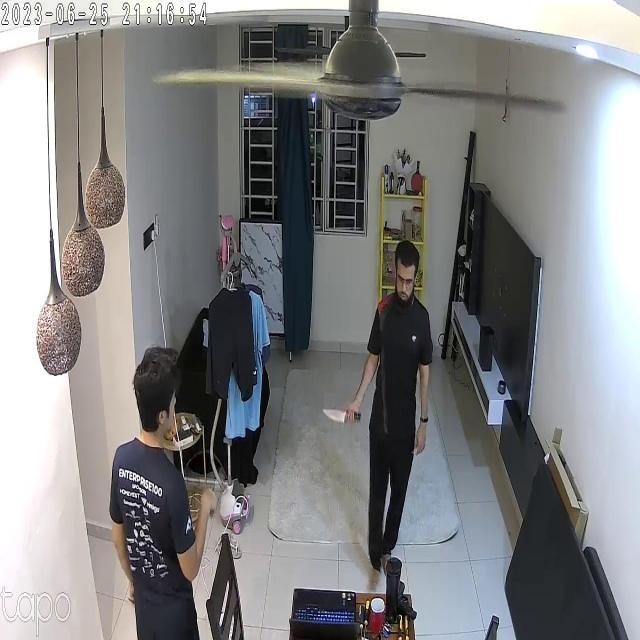Knife: (316, 396, 364, 434)
